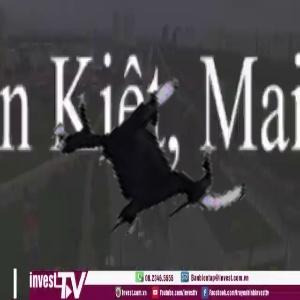drone: (46, 48, 259, 261)
